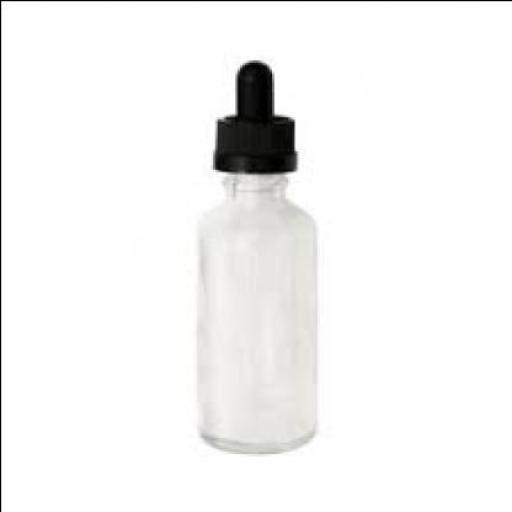glass: (200, 166, 318, 453)
plastic: (214, 60, 298, 168)
